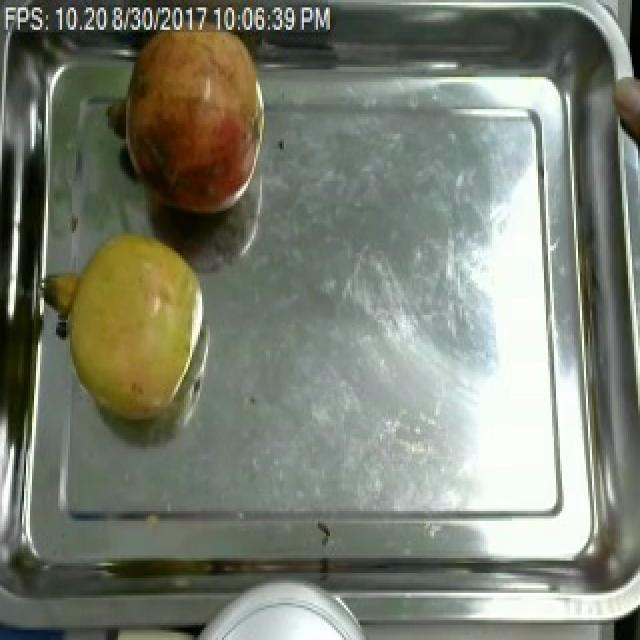fruit: (48, 221, 210, 434), (112, 12, 268, 226), (608, 65, 640, 161)
